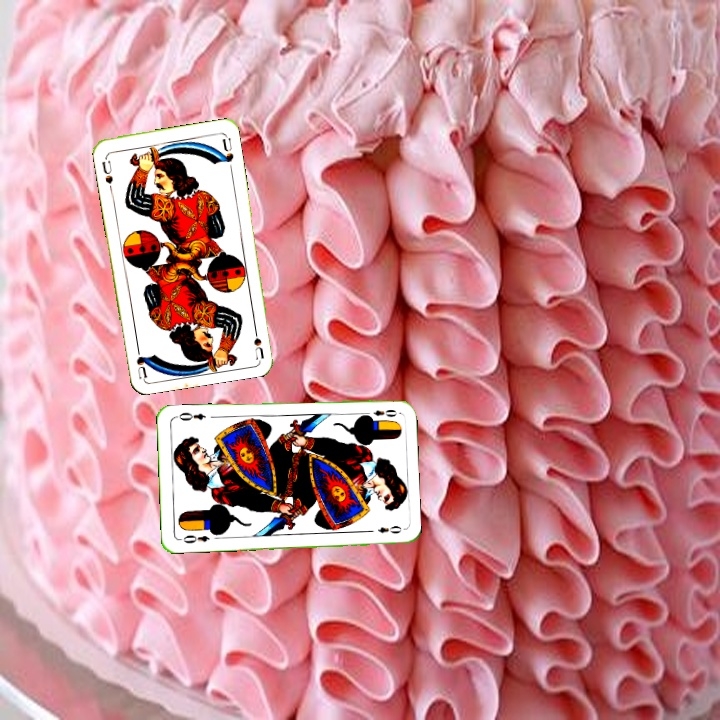EO: (360, 405, 400, 420), (176, 531, 212, 546)
SU: (250, 320, 266, 360), (98, 152, 116, 186)
